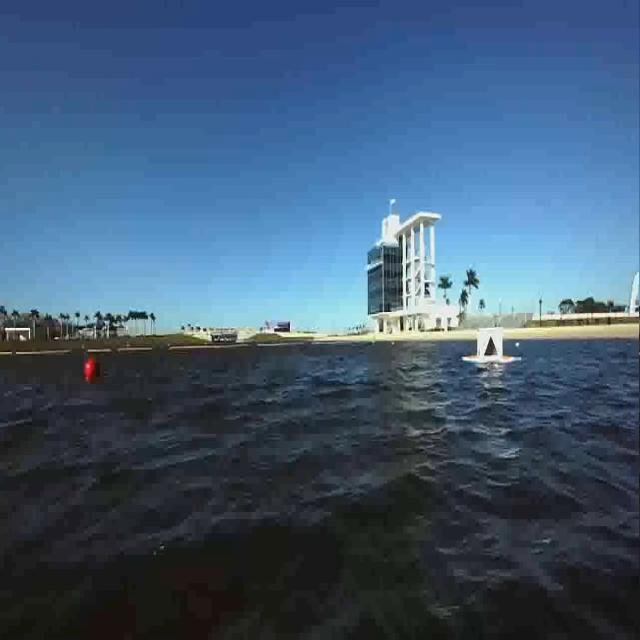red-buoy: (84, 359, 96, 377)
